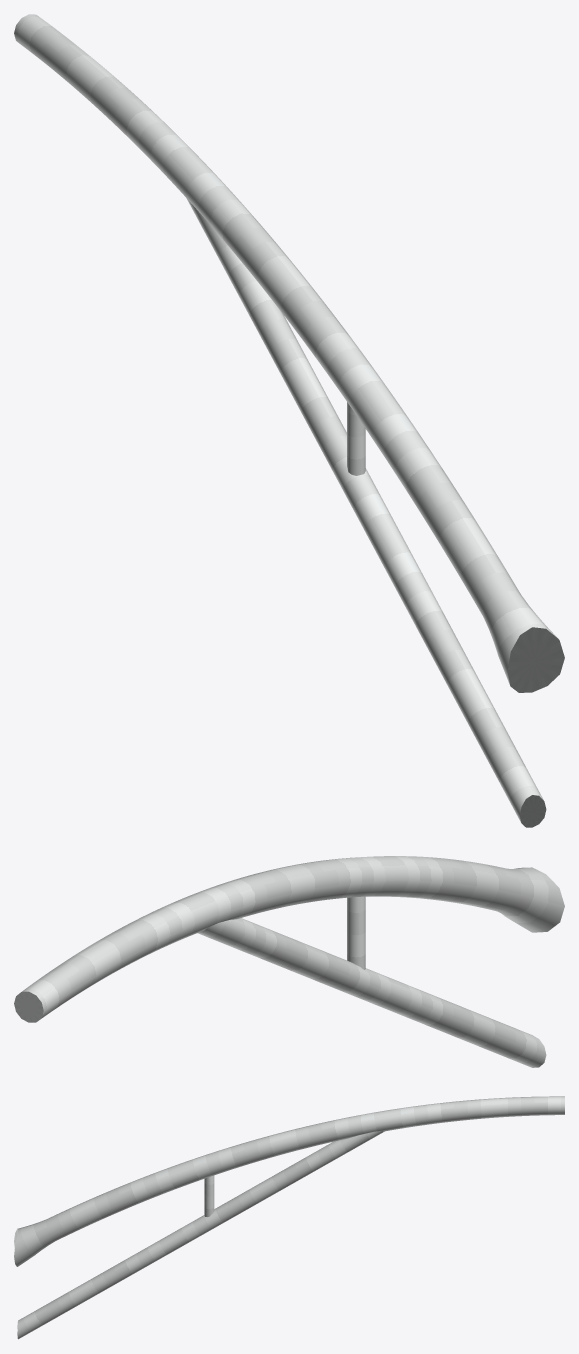
File: luminairearm_truss12ft_inv.obj
3 renders of one model, top to bottom at view 1: azimuth 30°, elevation 25°; view 2: azimuth 150°, elevation 25°; view 3: azimuth 270°, elevation 25°, orthographic. The views are drawn at different scales.
Parts seen in each view (by area): view 1: luminairearm_truss12ft_inv; view 2: luminairearm_truss12ft_inv; view 3: luminairearm_truss12ft_inv.
Boxes of the visible parts, x1=… form: luminairearm_truss12ft_inv: x1=14, y1=14, x2=564, y2=827; luminairearm_truss12ft_inv: x1=14, y1=856, x2=564, y2=1067; luminairearm_truss12ft_inv: x1=14, y1=1096, x2=564, y2=1339.
Bounding box in the file's own units: 0.0654 × 0.4837 × 1.
